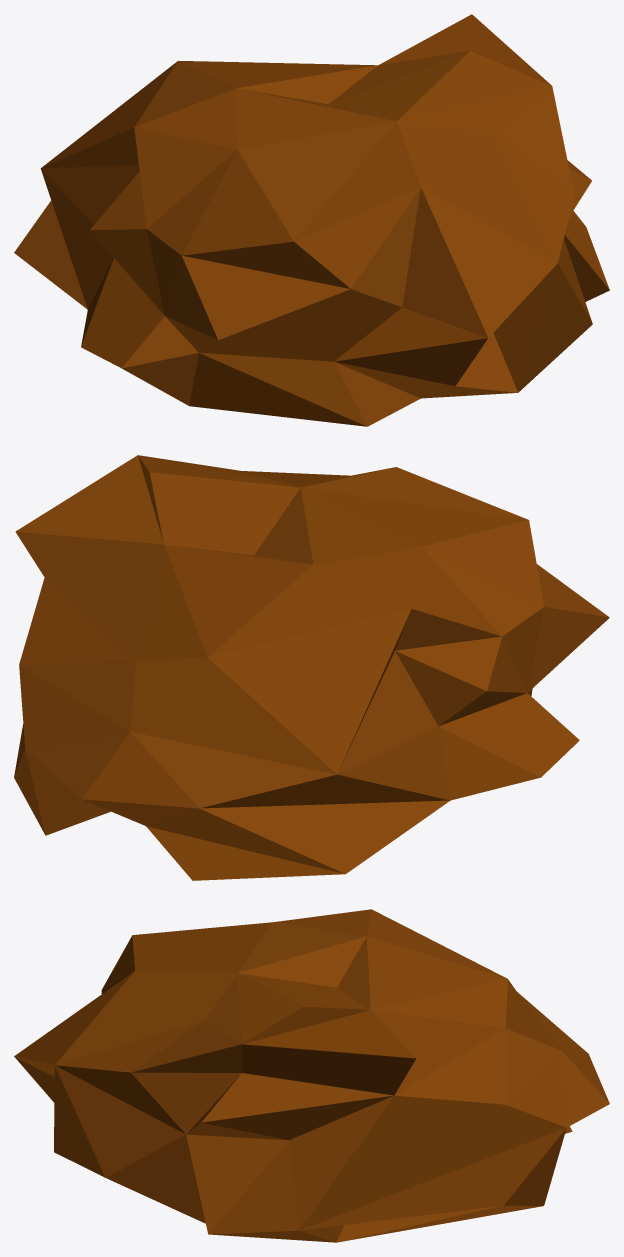
Rendered from Roca 10.fbx.
The picture shows the model from 3 angles, top to bottom: view 1: azimuth 30°, elevation 25°; view 2: azimuth 150°, elevation 25°; view 3: azimuth 270°, elevation 25°; orthographic projection. The views are drawn at different scales.
Visible parts, largest first — view 1: ROCA 10; view 2: ROCA 10; view 3: ROCA 10.
Boxes of the visible parts, <box> form: ROCA 10: <box>14,14,609,426</box>; ROCA 10: <box>14,455,609,880</box>; ROCA 10: <box>14,909,609,1242</box>.
Size of the model in its own units: 210 by 99.84 by 249.
